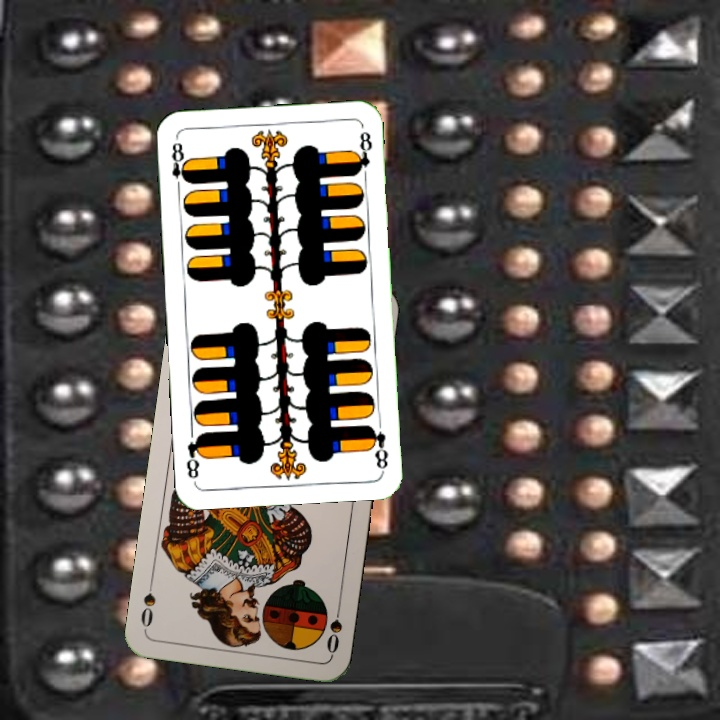E8: (364, 421, 391, 473), (167, 139, 192, 194)
SO: (322, 598, 345, 657)
